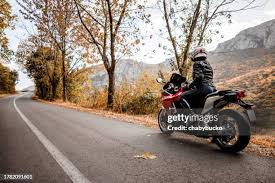motorcycle: (150, 70, 250, 155)
